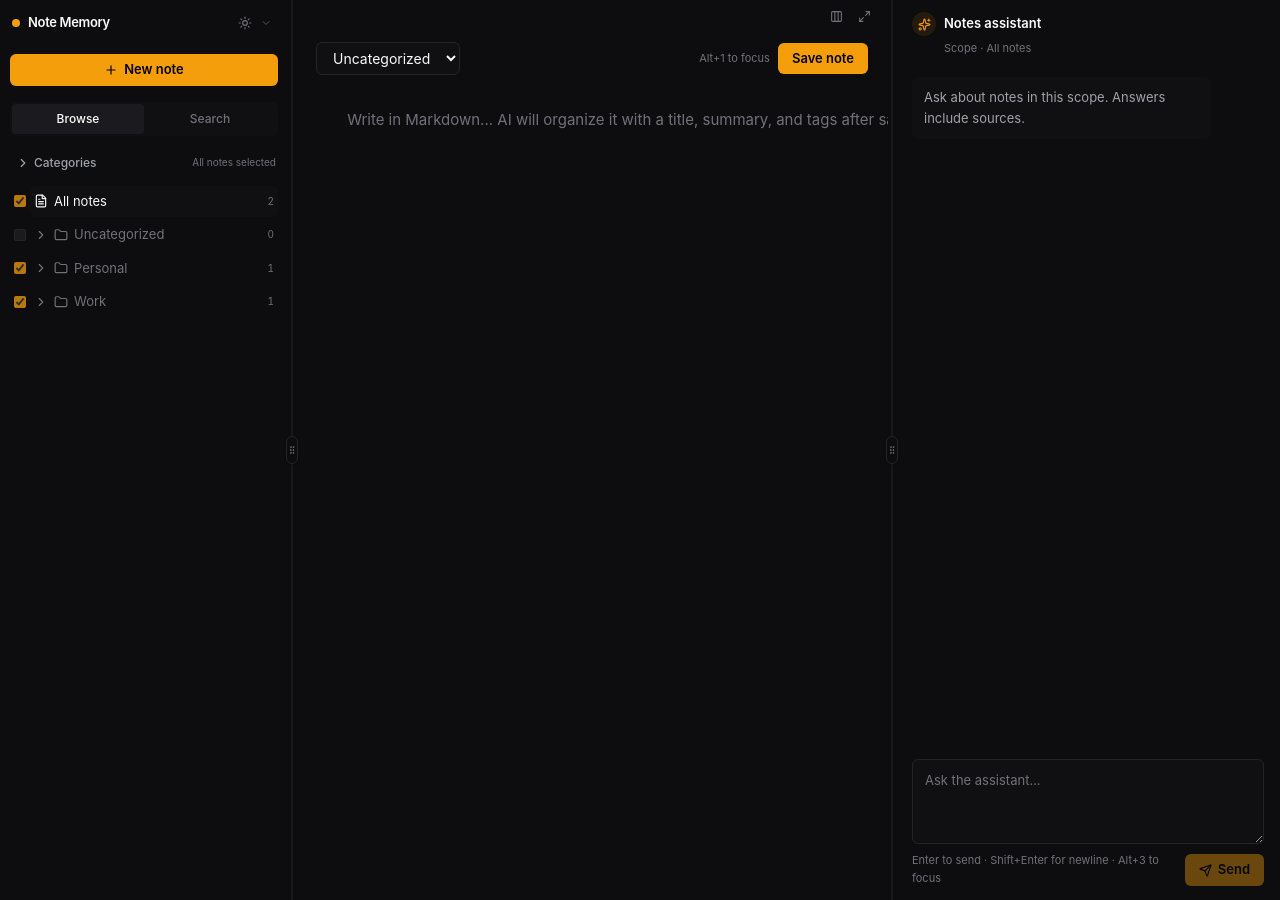
App sidebar navigation › shows Ask source checkboxes without a selection mode
Click the button "Work 1". click: x=154, y=302
box: [30, 286, 278, 318]
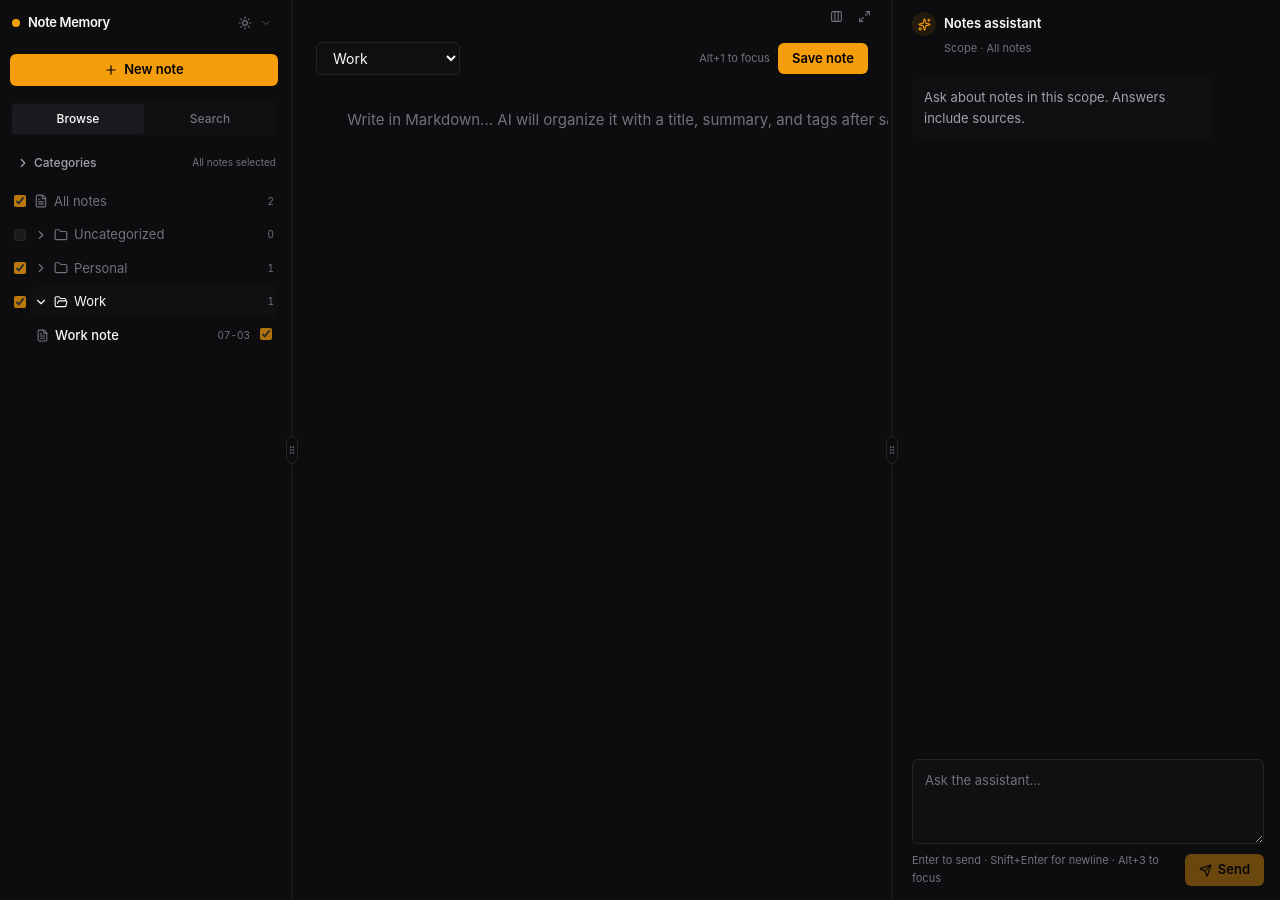
Check: the checkbox named "Use all notes for Ask" is checked, box [14, 195, 26, 207]
Check: the checkbox named "Use Work note for Ask" is checked, box [260, 328, 272, 340]
